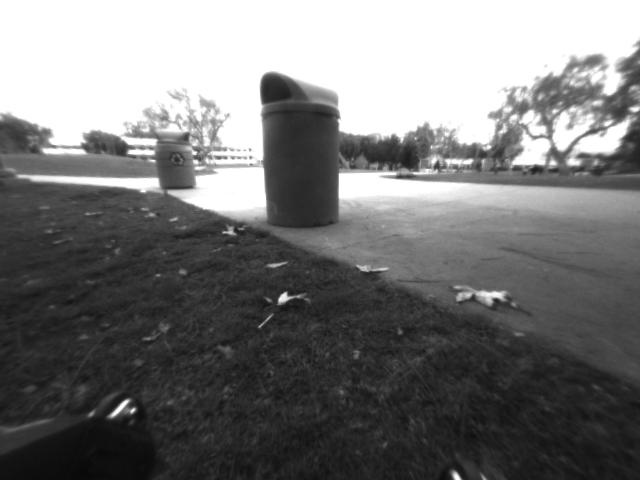trashcan: (253, 66, 343, 227)
